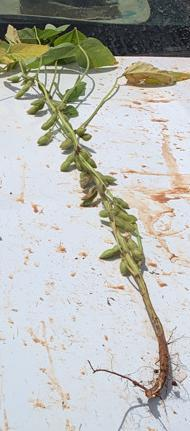soja: (95, 243, 123, 265), (116, 209, 141, 227), (127, 237, 143, 263), (36, 129, 57, 148), (59, 153, 78, 173), (81, 147, 99, 168), (18, 81, 34, 99), (99, 172, 117, 188), (113, 197, 130, 212), (45, 113, 57, 132), (59, 139, 73, 153), (29, 103, 45, 115), (95, 208, 110, 219), (120, 258, 128, 278), (30, 98, 47, 107), (6, 76, 22, 85), (75, 126, 88, 137), (81, 134, 91, 143)
